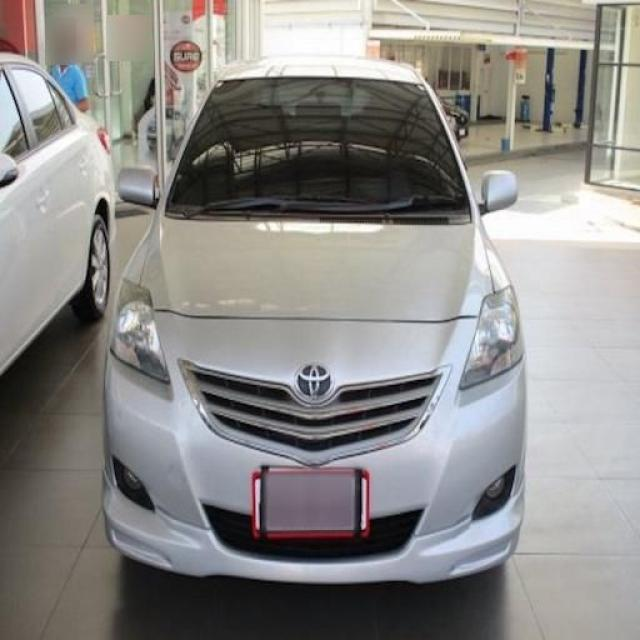front_bumper: (101, 312, 528, 584)
front_glass: (165, 77, 471, 225)
front_left_light: (459, 283, 524, 389)
front_right_light: (107, 276, 171, 380)
hood: (140, 218, 495, 321)
left_mirror: (476, 169, 520, 217)
right_mirror: (116, 166, 158, 210)
